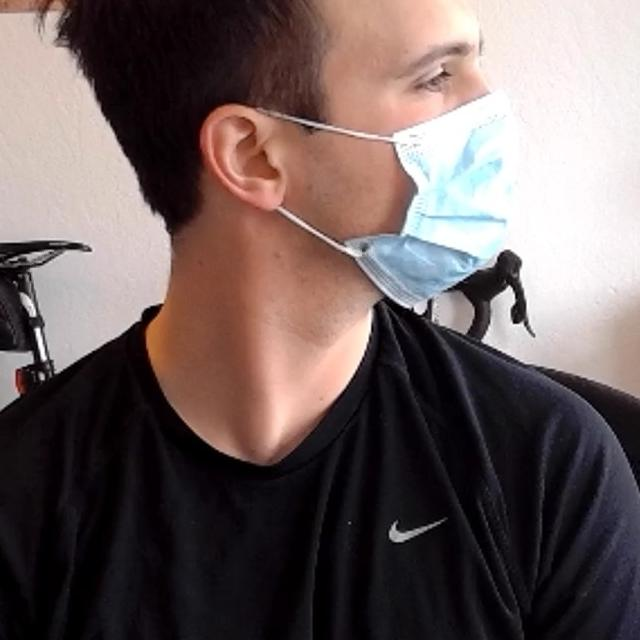Mask: (245, 93, 523, 311)
NO-Safety Vest: (0, 328, 528, 640)
Person: (0, 0, 640, 640)
